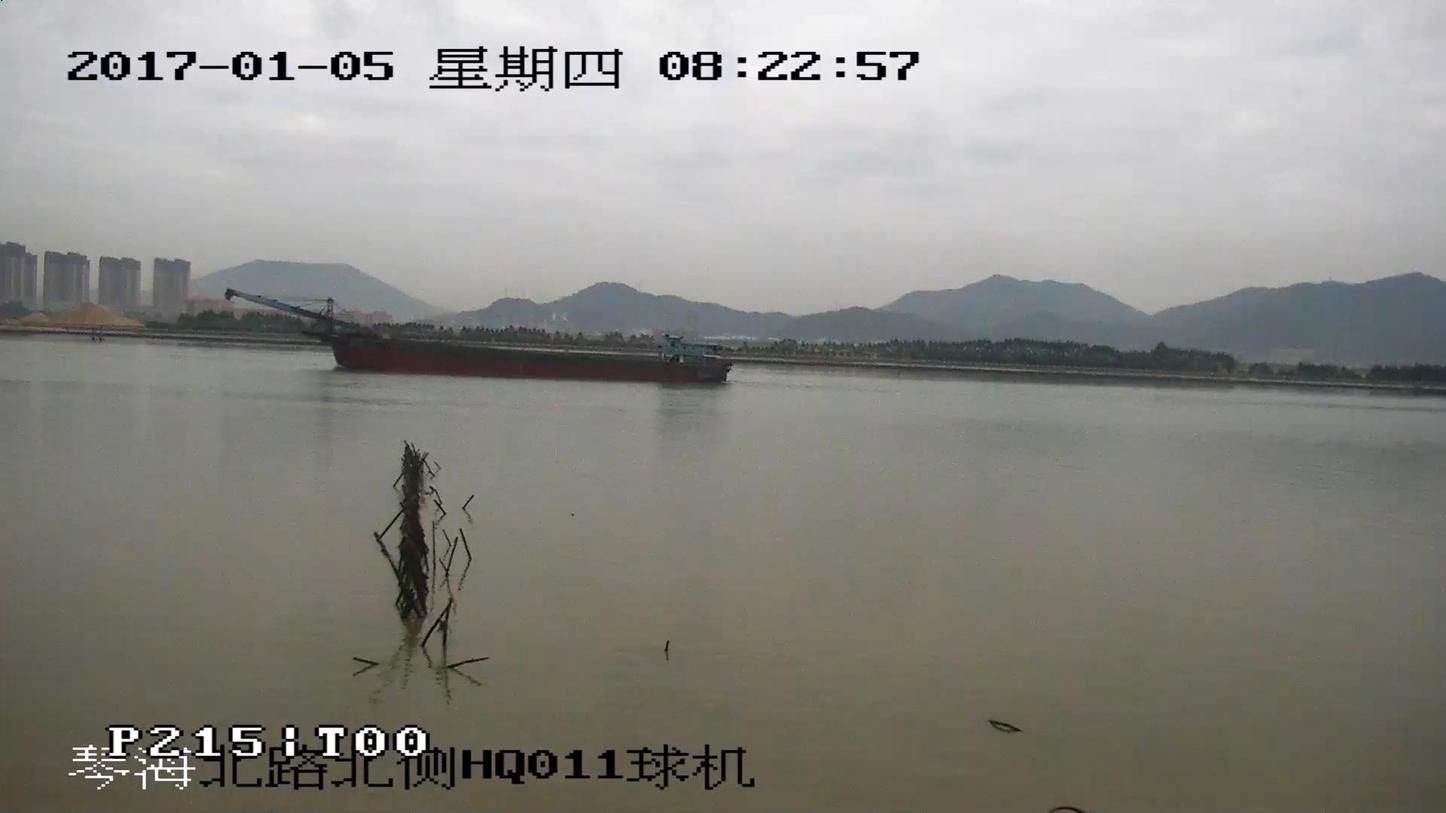bulk cargo carrier: (223, 289, 731, 382)
